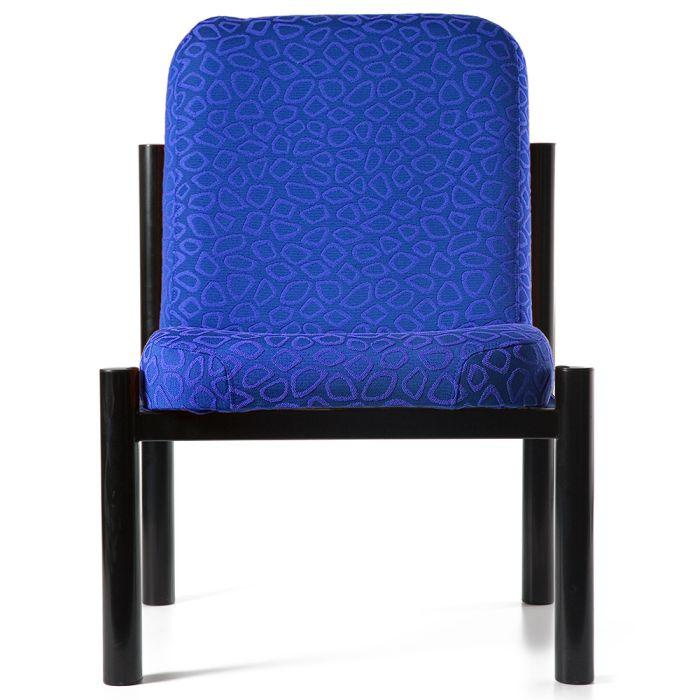bed: (90, 8, 624, 699)
